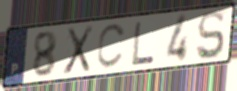4: (164, 11, 191, 65)
8: (31, 29, 59, 78)
C: (95, 22, 128, 72)
L: (131, 21, 157, 67)
S: (195, 9, 227, 62)
X: (62, 24, 96, 78)
